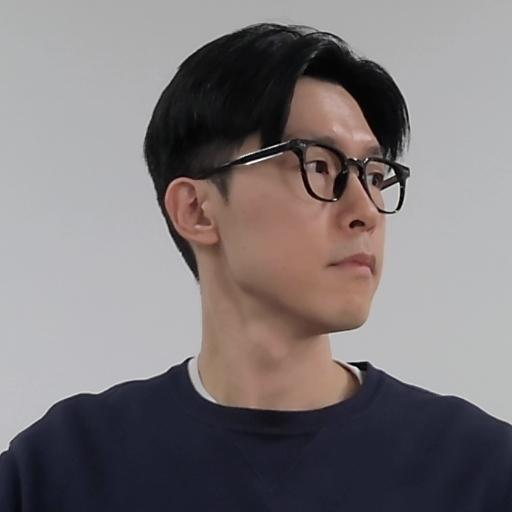no_glasses: (124, 12, 428, 364)
